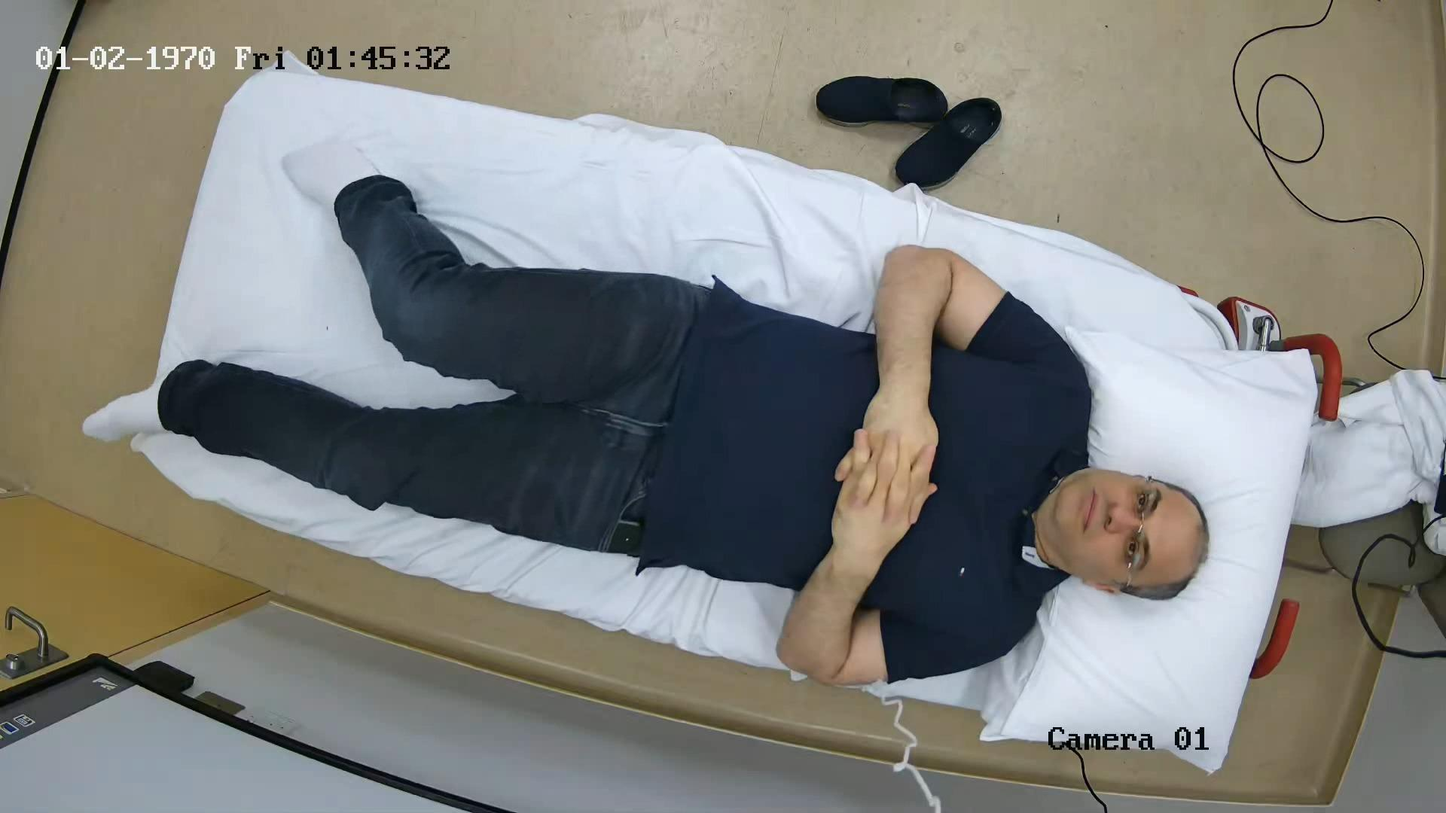bed: (134, 61, 1341, 772)
patient: (157, 175, 1209, 684)
